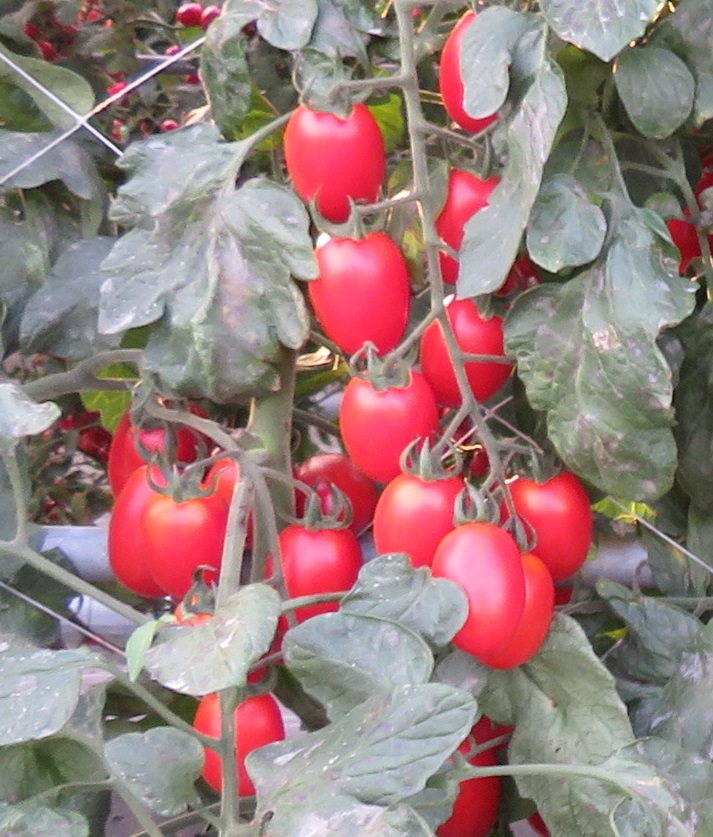red: (303, 226, 410, 364), (333, 360, 447, 484), (432, 520, 531, 652), (281, 97, 382, 222), (265, 517, 362, 630), (422, 294, 514, 407), (511, 469, 604, 579), (369, 464, 471, 563), (141, 489, 231, 601), (194, 690, 284, 795), (105, 464, 171, 599), (105, 402, 208, 479), (437, 9, 502, 130), (294, 453, 376, 535), (438, 743, 500, 837), (175, 3, 205, 27)
